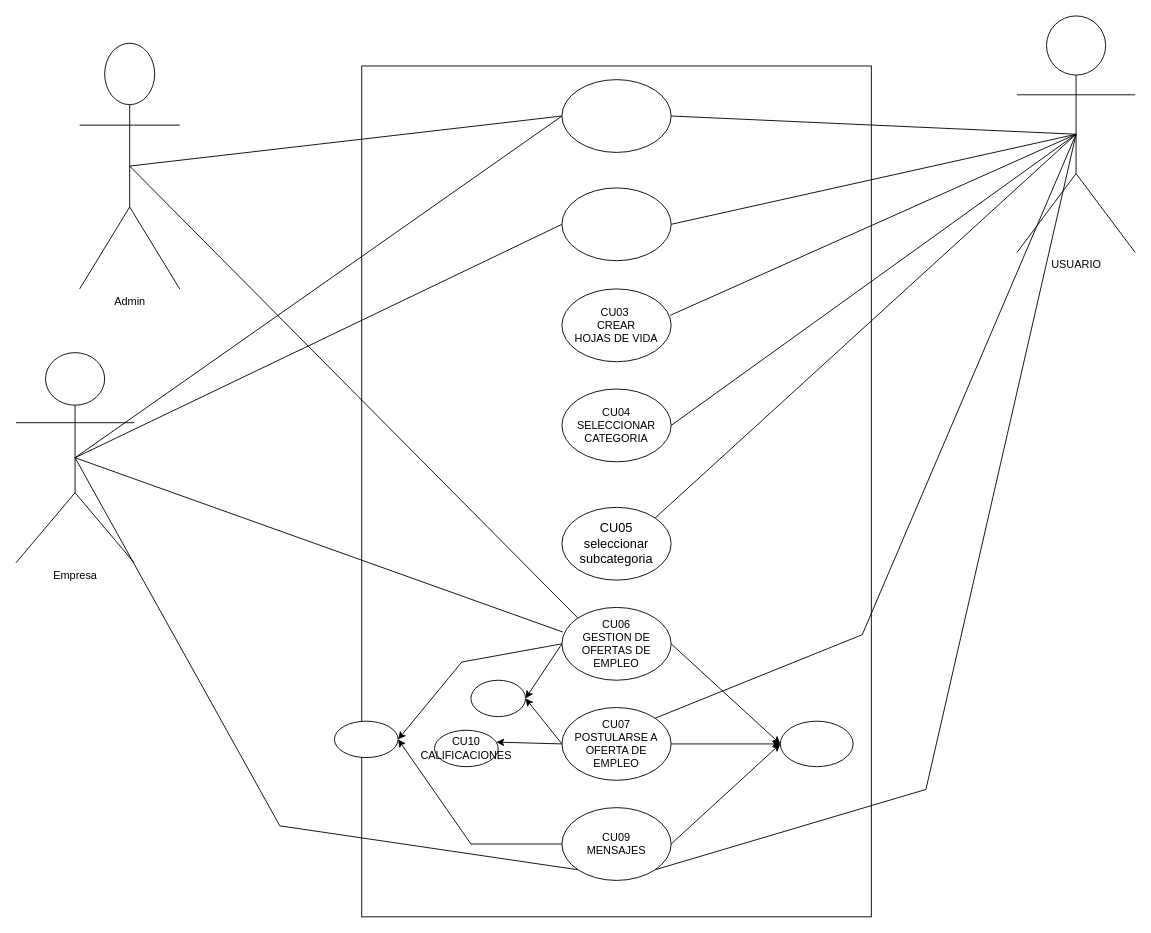
The diagram is 1151 pixels wide and 933 high, and some of its shapes have lost their labels. Here are the shapes that lost their labels. From the top down, the centre of each, then its label:
At (616,115): "CU01 INICIO DE SESION".
At (616,224): "CU02 REGISTRO".
At (498,698): "CU11 RESEÑAS".
At (366,739): "CU12 ESTADISTICAS".
At (816,743): "CU08 NOTIFICACIONES".
